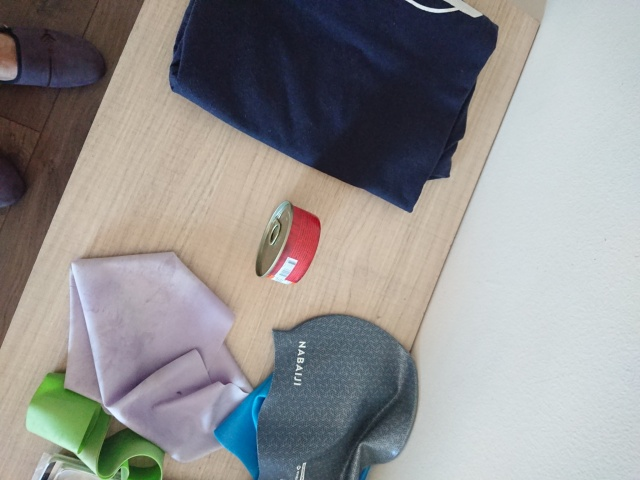Gavrilovic Pork Liver Pate 100g: (253, 198, 323, 287)
